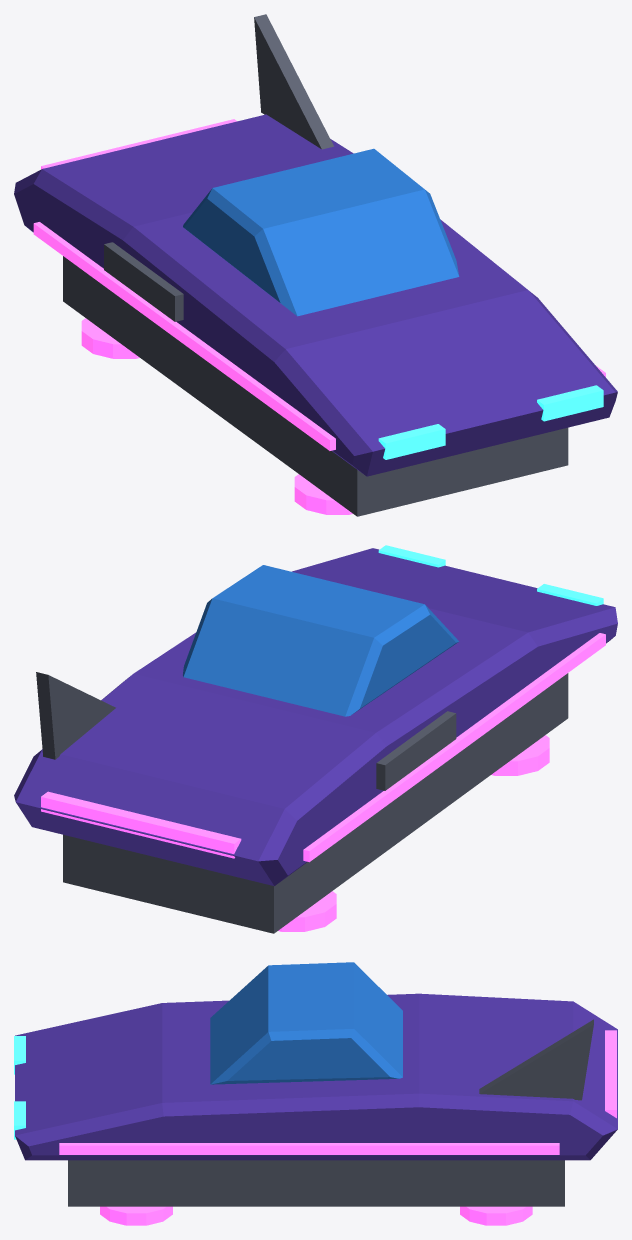
The model's file is hover.glb.
The picture shows the model from 3 angles, top to bottom: view 1: azimuth 30°, elevation 25°; view 2: azimuth 150°, elevation 25°; view 3: azimuth 270°, elevation 25°; orthographic projection. The views are drawn at different scales.
Parts seen in each view (by area): view 1: Hover car body, Hover car canopy, Hover car underside, Hover car neon, Hover car headlights; view 2: Hover car body, Hover car underside, Hover car canopy, Hover car neon, Hover car headlights; view 3: Hover car body, Hover car underside, Hover car canopy, Hover car neon, Hover car headlights.
Part boxes in pixels (x1,y1,x2,y2): Hover car body: [14, 114, 617, 476]; Hover car canopy: [183, 148, 459, 316]; Hover car underside: [63, 14, 568, 516]; Hover car neon: [33, 119, 605, 514]; Hover car headlights: [378, 385, 603, 459]; Hover car body: [14, 548, 617, 886]; Hover car underside: [36, 672, 568, 933]; Hover car canopy: [183, 565, 458, 716]; Hover car neon: [41, 633, 605, 931]; Hover car headlights: [378, 545, 603, 605]; Hover car body: [15, 993, 617, 1160]; Hover car underside: [68, 1019, 593, 1206]; Hover car canopy: [210, 962, 402, 1084]; Hover car neon: [59, 1030, 616, 1225]; Hover car headlights: [14, 1036, 25, 1139].
Size of the model in its own units: 1.58 by 1.28 by 3.52.
